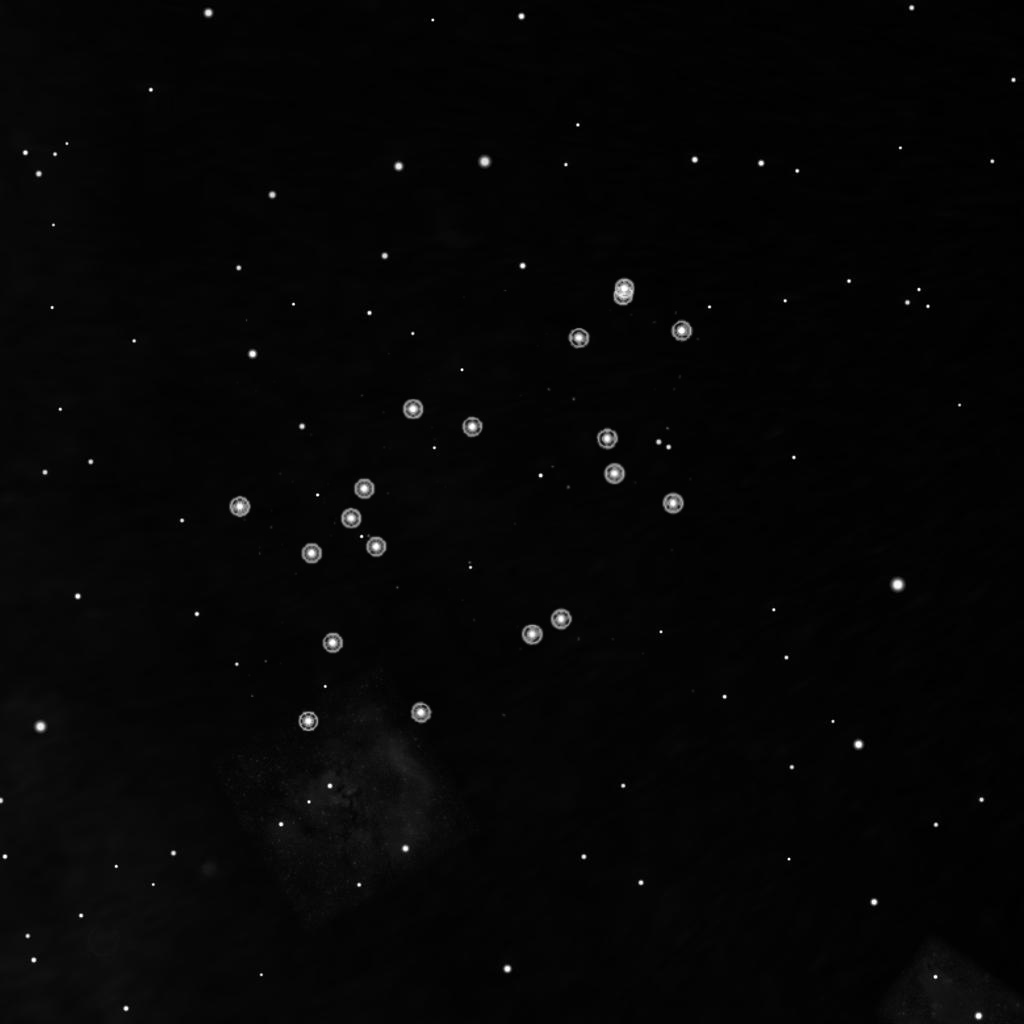canis_major: (290, 396, 488, 572)
